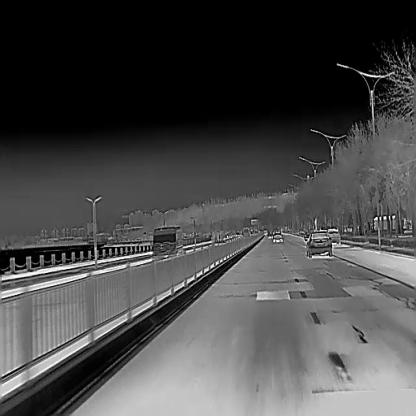bus: (241, 226, 251, 237)
car: (151, 224, 184, 260), (305, 230, 333, 258), (326, 228, 340, 244), (272, 231, 283, 243)
